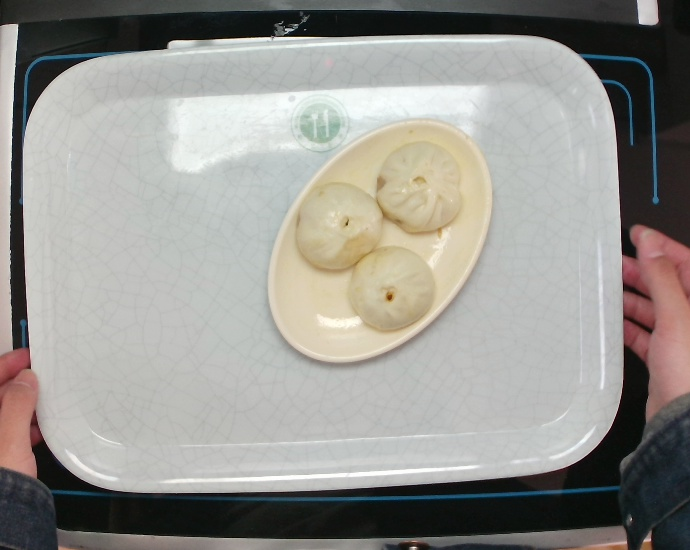JYsf-Tuo_Yuan_Wan: (266, 118, 496, 367)
